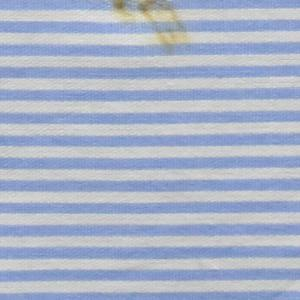Oil Stain: (103, 1, 199, 61)
